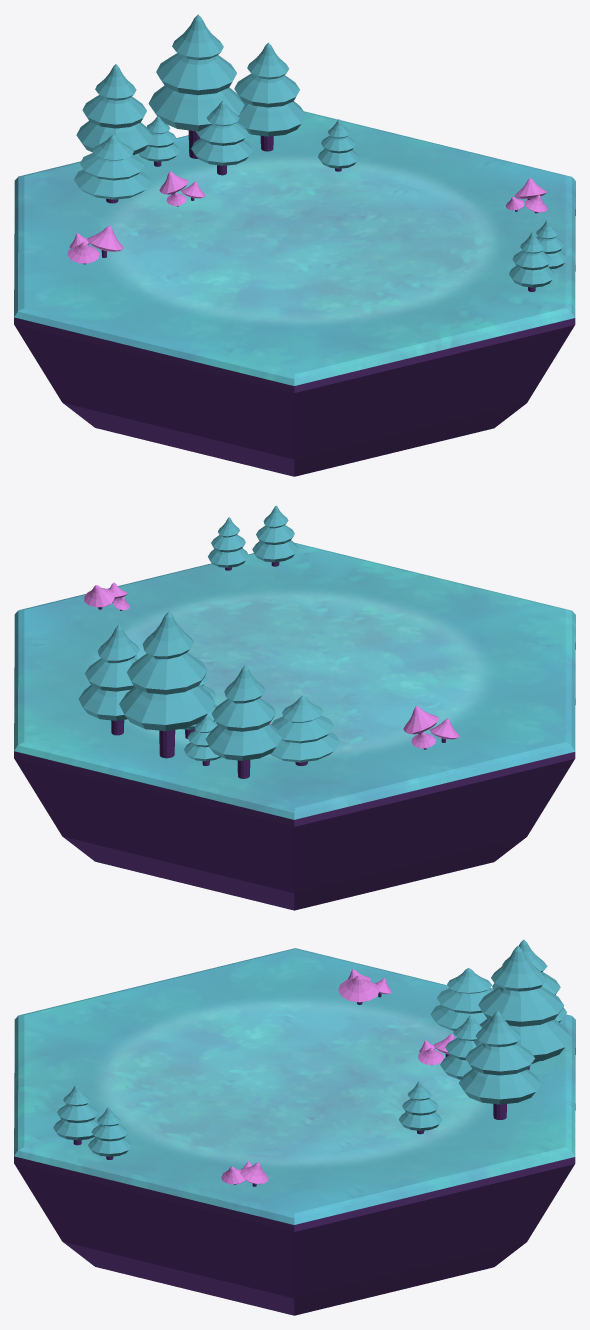
The model's file is Asset_Biome_Forest.fbx.
The picture shows the model from 3 angles, top to bottom: view 1: azimuth 30°, elevation 25°; view 2: azimuth 150°, elevation 25°; view 3: azimuth 270°, elevation 25°; orthographic projection.
Parts seen in each view (by area): view 1: Asset_Tile_Forest, PolySurface_TreeForest_02, PolySurface_TreeForest_06, PolySurface_TreeForest_03, PolySurface_TreeForest_04, PolySurface_TreeForest_05, PolySurface_TreeForest_09, PolySurface_TreeForest_07, PolySurface_MushroomForest_02, PolySurface_TreeForest_01, PolySurface_MushroomForest_01, PolySurface_MushroomForest_03 (+1 smaller); view 2: Asset_Tile_Forest, PolySurface_TreeForest_02, PolySurface_TreeForest_03, PolySurface_TreeForest_06, PolySurface_TreeForest_04, PolySurface_TreeForest_09, PolySurface_TreeForest_08, PolySurface_MushroomForest_02, PolySurface_TreeForest_01, PolySurface_MushroomForest_03; view 3: Asset_Tile_Forest, PolySurface_TreeForest_02, PolySurface_TreeForest_06, PolySurface_TreeForest_04, PolySurface_TreeForest_09, PolySurface_TreeForest_07, PolySurface_TreeForest_08, PolySurface_TreeForest_05, PolySurface_MushroomForest_02, PolySurface_MushroomForest_03, PolySurface_TreeForest_03, PolySurface_MushroomForest_01.
Boxes of the visible parts, box(x1,y1,x2,y2) form: Asset_Tile_Forest: box(14, 111, 575, 476); PolySurface_TreeForest_02: box(148, 14, 244, 158); PolySurface_TreeForest_06: box(234, 42, 305, 151); PolySurface_TreeForest_03: box(76, 64, 152, 154); PolySurface_TreeForest_04: box(74, 135, 150, 203); PolySurface_TreeForest_05: box(191, 100, 252, 175); PolySurface_TreeForest_09: box(509, 232, 554, 291); PolySurface_TreeForest_07: box(318, 119, 358, 171); PolySurface_MushroomForest_02: box(67, 225, 123, 264); PolySurface_TreeForest_01: box(138, 116, 179, 166); PolySurface_MushroomForest_01: box(159, 171, 205, 206); PolySurface_MushroomForest_03: box(505, 178, 547, 213); Asset_Tile_Forest: box(14, 543, 575, 910); PolySurface_TreeForest_02: box(119, 611, 215, 758); PolySurface_TreeForest_03: box(205, 665, 282, 778); PolySurface_TreeForest_06: box(78, 625, 139, 735); PolySurface_TreeForest_04: box(270, 695, 339, 766); PolySurface_TreeForest_09: box(252, 505, 298, 566); PolySurface_TreeForest_08: box(208, 517, 248, 570); PolySurface_MushroomForest_02: box(403, 706, 459, 749); PolySurface_TreeForest_01: box(184, 714, 221, 765); PolySurface_MushroomForest_03: box(84, 582, 129, 610); Asset_Tile_Forest: box(14, 948, 575, 1315); PolySurface_TreeForest_02: box(473, 946, 572, 1069); PolySurface_TreeForest_06: box(458, 1010, 541, 1119); PolySurface_TreeForest_04: box(430, 968, 493, 1030); PolySurface_TreeForest_09: box(53, 1085, 99, 1145); PolySurface_TreeForest_07: box(398, 1081, 442, 1134); PolySurface_TreeForest_08: box(88, 1107, 131, 1159); PolySurface_TreeForest_05: box(440, 1015, 481, 1079); PolySurface_MushroomForest_02: box(338, 969, 391, 1004); PolySurface_MushroomForest_03: box(221, 1161, 268, 1186); PolySurface_TreeForest_03: box(492, 939, 566, 1022); PolySurface_MushroomForest_01: box(418, 1034, 454, 1065).
Size of the model in its own units: 436 by 217 by 378.
